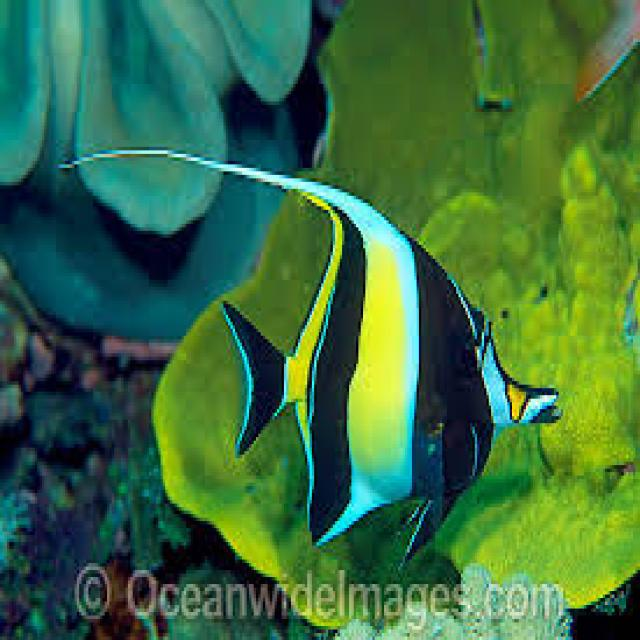MorishIdol: (61, 140, 563, 573)
